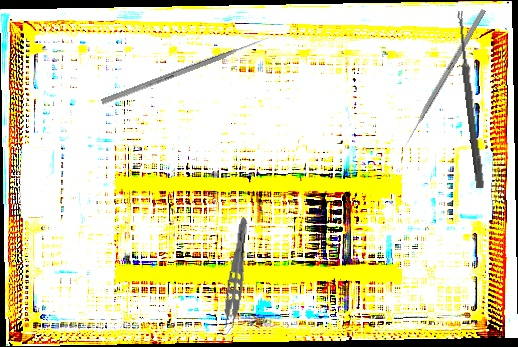Pusher: (399, 8, 487, 152), (100, 35, 271, 105)
Surgical Spoon: (454, 10, 486, 189)
Tissue Forceps: (217, 215, 251, 337)
